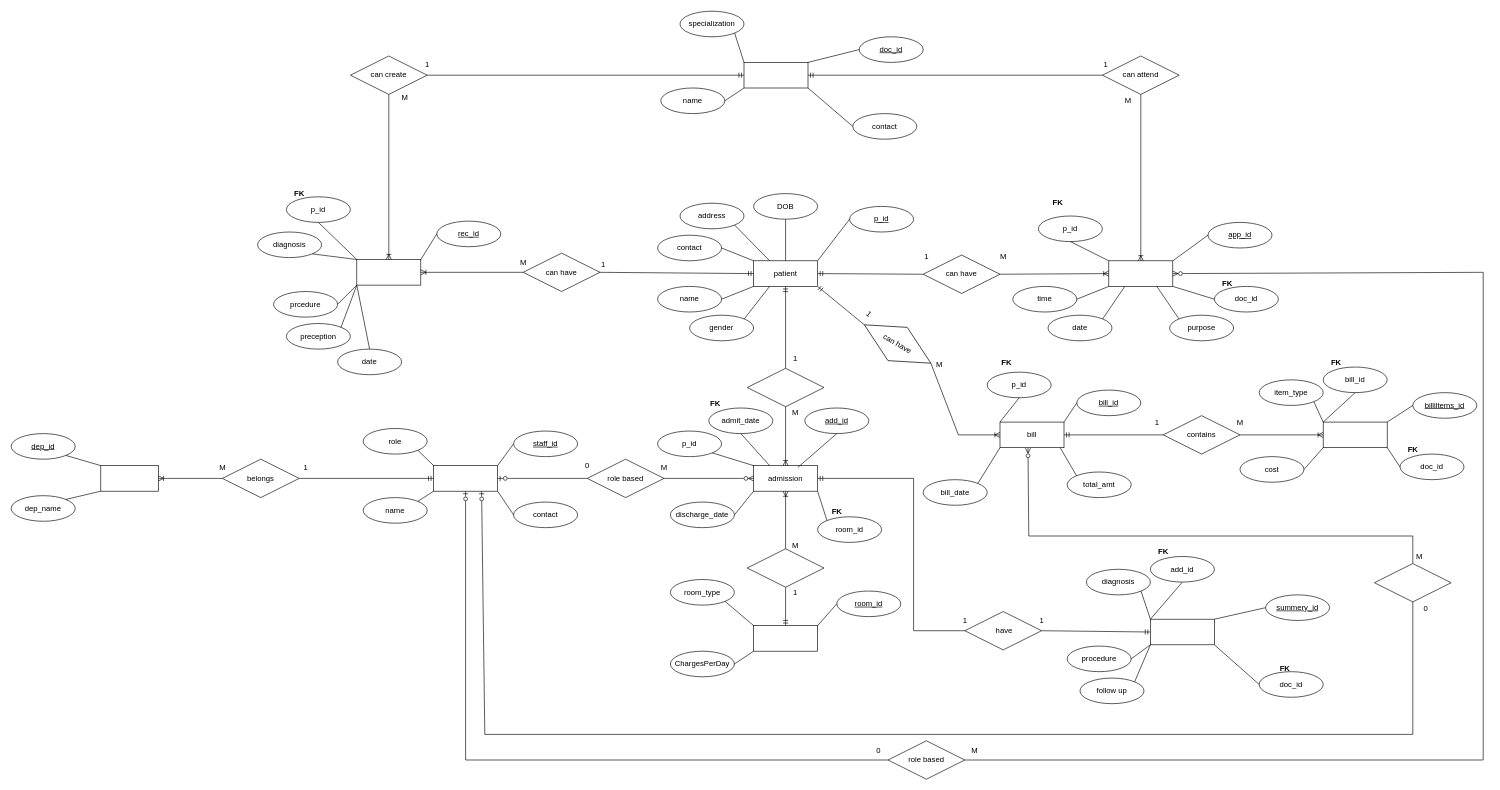
Some shapes in this 1500 by 790 pixel diagram are drawn without their labels. The shapes that lost their labels are listed below. From the top down, each one's centre as x and y in pixels, then its label:
point (775, 75): doctor
point (388, 272): medical record
point (1140, 273): appointment
point (785, 387): can be admitted
point (1355, 434): billItems
point (129, 478): department
point (465, 478): staff
point (785, 567): can be assigned
point (1412, 582): can manage
point (785, 638): room
point (1182, 632): discharge summery
